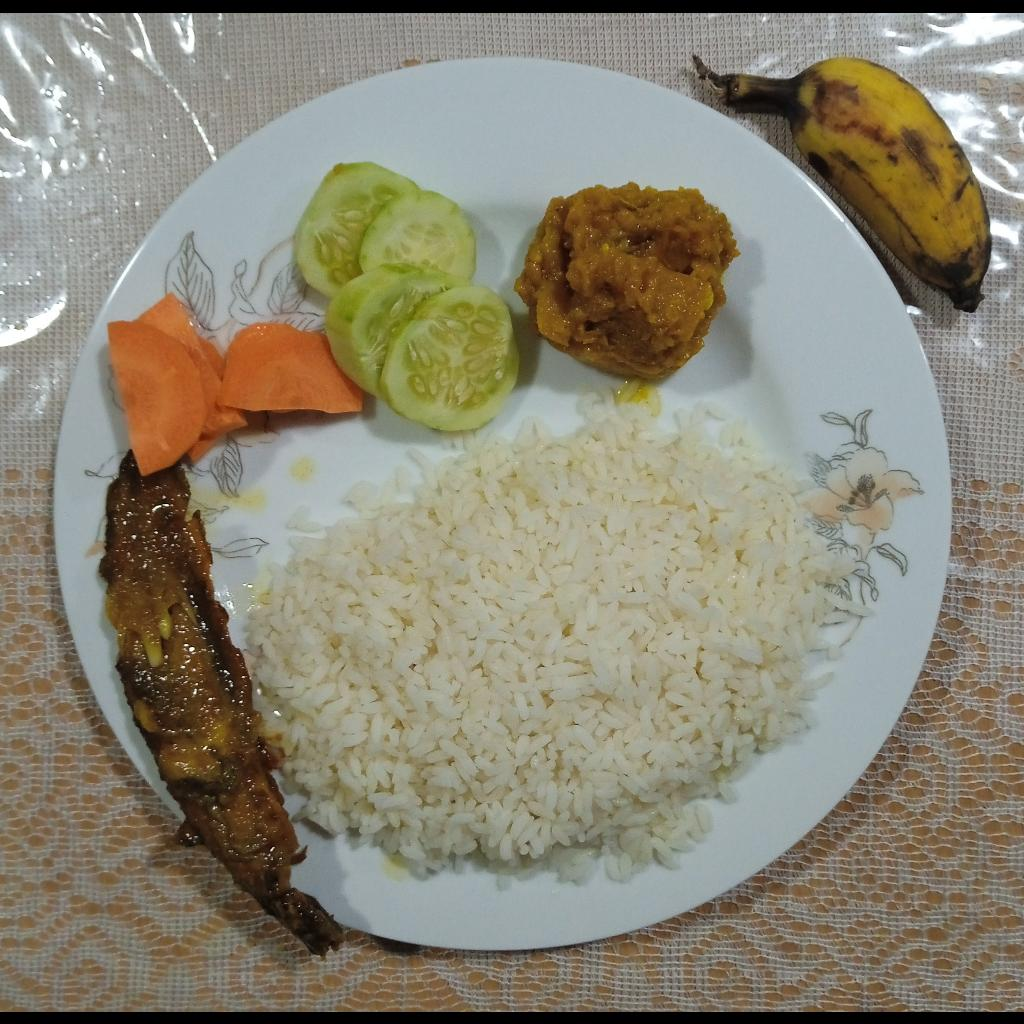banana: (689, 50, 992, 315)
carrot: (107, 291, 364, 475)
cucumber: (294, 160, 521, 432)
fish: (98, 447, 347, 959)
kumra-vaji: (513, 180, 744, 380)
rice: (243, 384, 875, 890)
